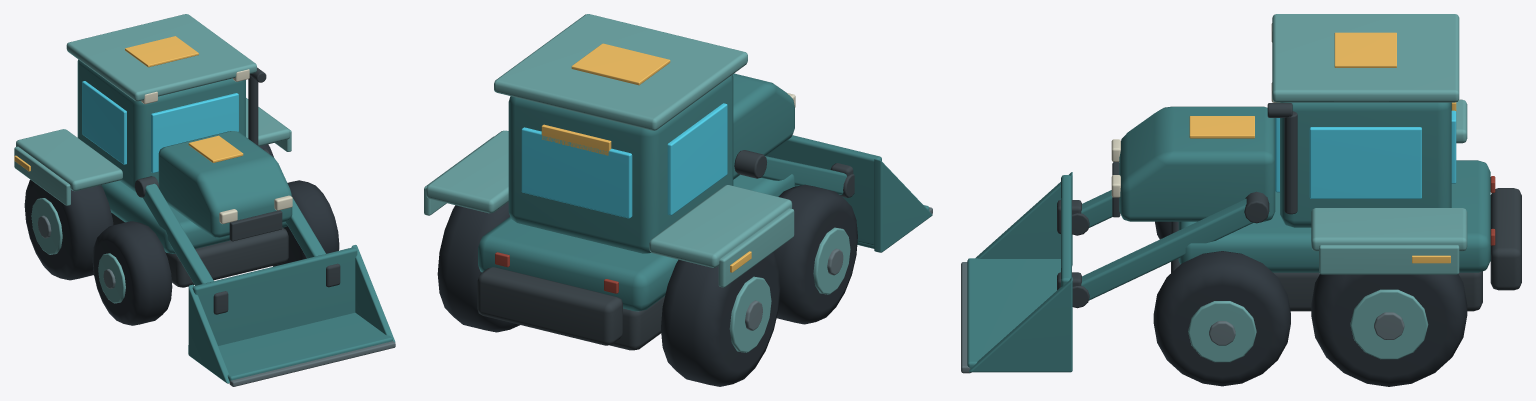
Rendered from meridian-worker.glb.
The picture shows the model from 3 angles, left to right: view 1: azimuth 30°, elevation 25°; view 2: azimuth 150°, elevation 25°; view 3: azimuth 270°, elevation 25°; orthographic projection. The views are drawn at different scales.
Parts seen in each view (by area): view 1: WorkerBodyMesh, LoaderMesh, WheelFrontLeftMesh, WheelRearLeftMesh, WheelFrontRightMesh; view 2: WorkerBodyMesh, WheelRearLeftMesh, LoaderMesh, WheelFrontLeftMesh, WheelRearRightMesh; view 3: WorkerBodyMesh, LoaderMesh, WheelRearRightMesh, WheelFrontRightMesh.
Boxes of the visible parts, x1,y1,x2,y2 form: WorkerBodyMesh: [14, 14, 292, 287]; LoaderMesh: [134, 148, 395, 386]; WheelFrontLeftMesh: [92, 221, 172, 325]; WheelRearLeftMesh: [24, 179, 113, 280]; WheelFrontRightMesh: [272, 180, 339, 266]; WorkerBodyMesh: [424, 14, 795, 350]; WheelRearLeftMesh: [661, 252, 780, 386]; LoaderMesh: [734, 135, 932, 252]; WheelFrontLeftMesh: [773, 184, 857, 324]; WheelRearRightMesh: [437, 202, 519, 332]; WorkerBodyMesh: [1111, 14, 1521, 311]; LoaderMesh: [961, 172, 1269, 373]; WheelRearRightMesh: [1311, 274, 1467, 386]; WheelFrontRightMesh: [1153, 251, 1290, 386].
Bounding box in the file's own units: 2.27 × 1.97 × 3.6.
